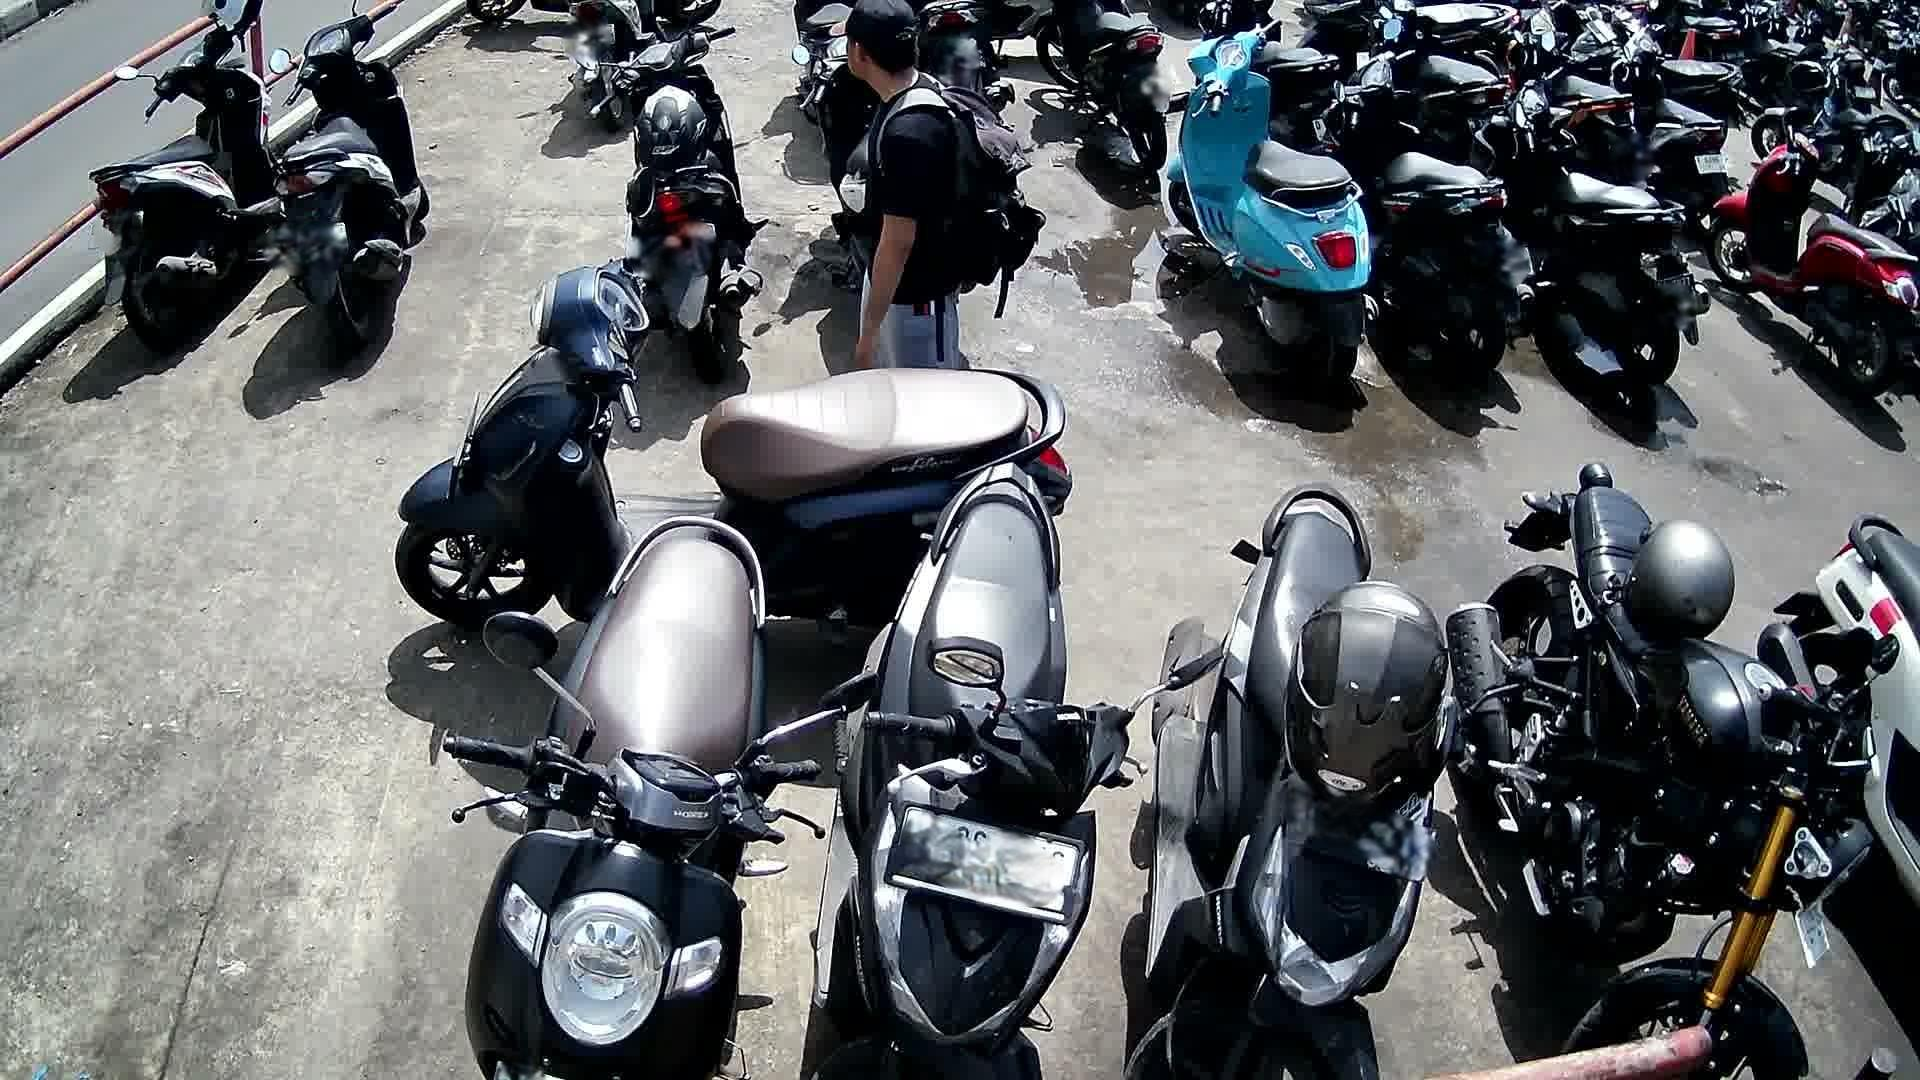motorcycle: (1447, 462, 1875, 1080), (396, 257, 1072, 632), (810, 462, 1197, 1080), (443, 516, 858, 1080), (1120, 480, 1494, 1080), (1163, 13, 1382, 396), (1466, 65, 1717, 397), (1321, 18, 1540, 385), (580, 25, 779, 388), (84, 0, 282, 356), (1755, 514, 1920, 916), (1706, 109, 1920, 404), (269, 0, 440, 359)
